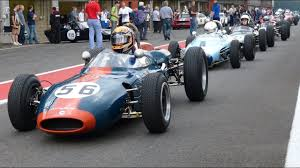f1_car: (5, 19, 217, 144)
